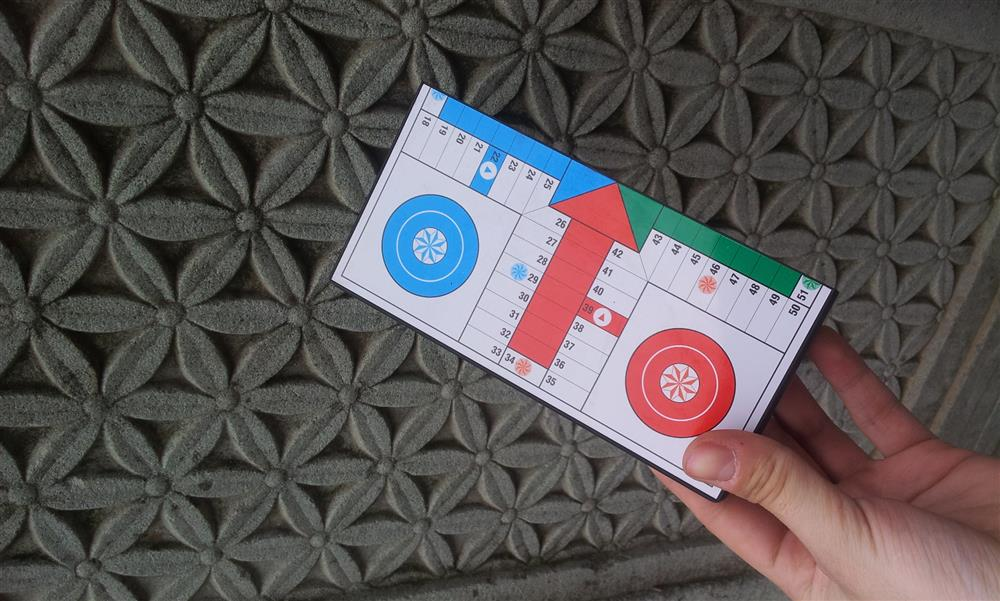parchis: (315, 66, 849, 504)
